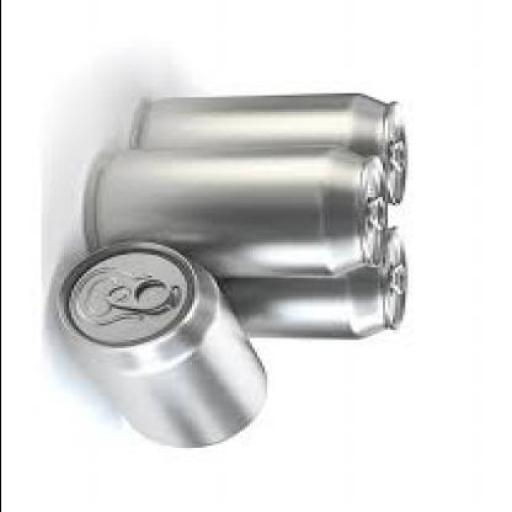metal: (57, 243, 269, 450), (82, 146, 392, 284), (130, 94, 408, 206), (190, 228, 409, 342)
